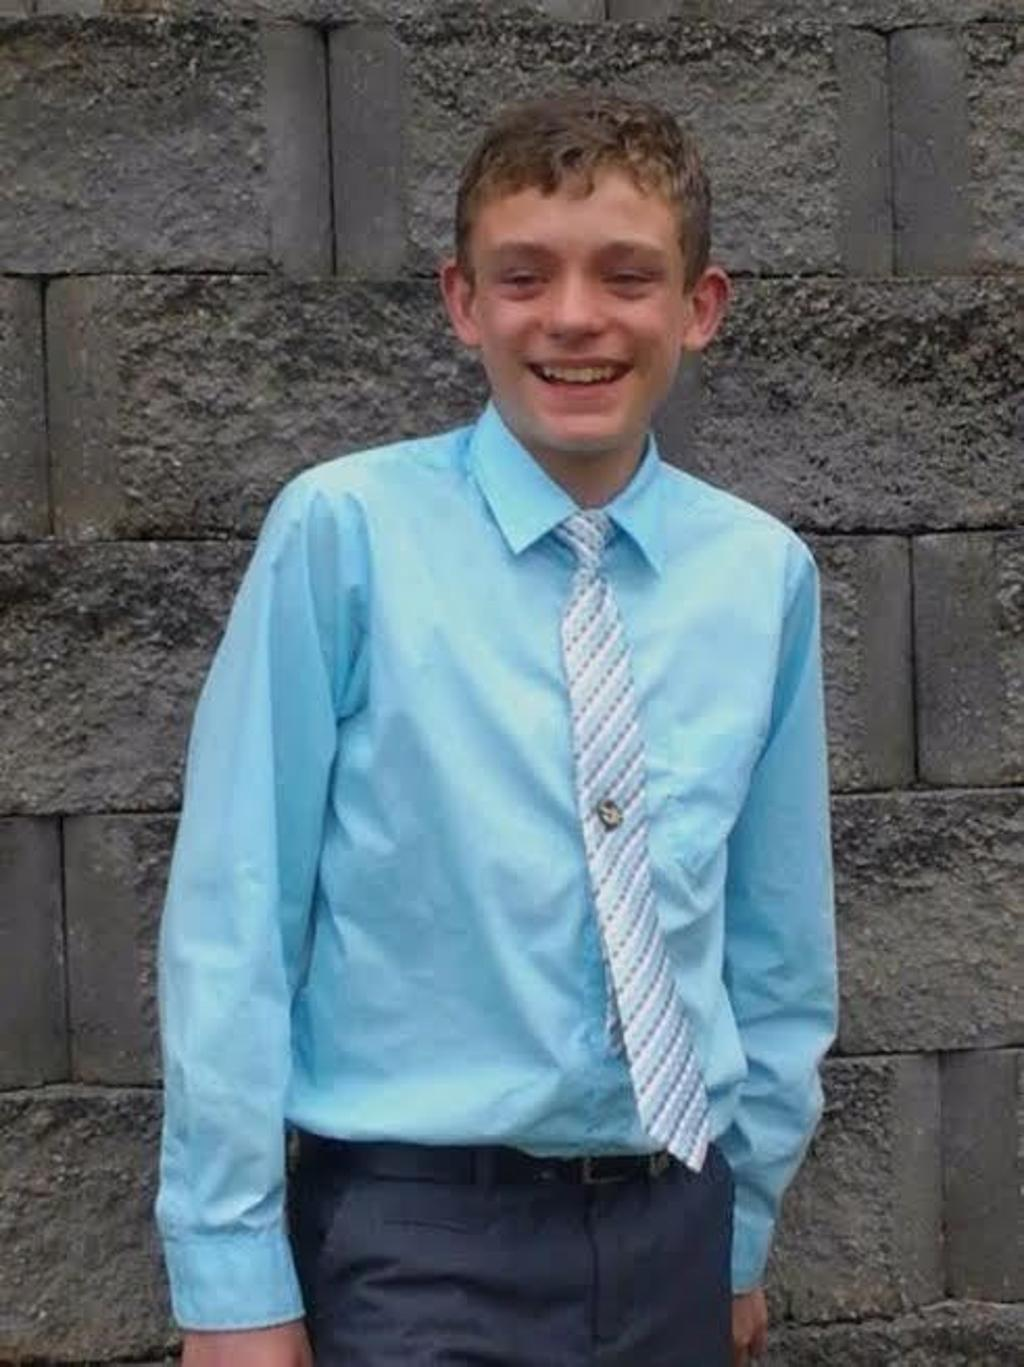face: (478, 174, 675, 433)
